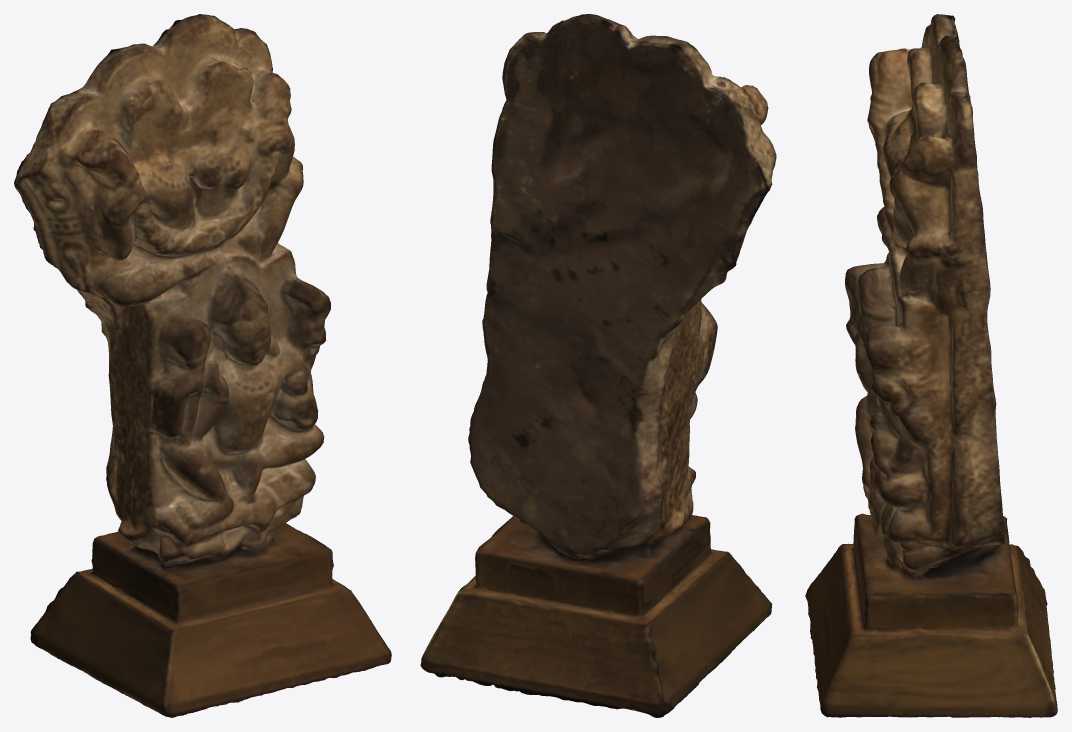
Rendered from preview.glb.
3 views of the same model, side by side, from view 1: azimuth 30°, elevation 25°; view 2: azimuth 150°, elevation 25°; view 3: azimuth 270°, elevation 25° (orthographic). The views are drawn at different scales.
Parts seen in each view (by area): view 1: Object_2; view 2: Object_2; view 3: Object_2.
Boxes of the visible parts, left/top/right/bottom form: Object_2: left=14, top=14, right=391, bottom=717; Object_2: left=420, top=14, right=776, bottom=717; Object_2: left=805, top=14, right=1057, bottom=717.
Bounding box in the file's own units: 177 × 350 × 129.
Materials: 1 (1 with a texture image).
